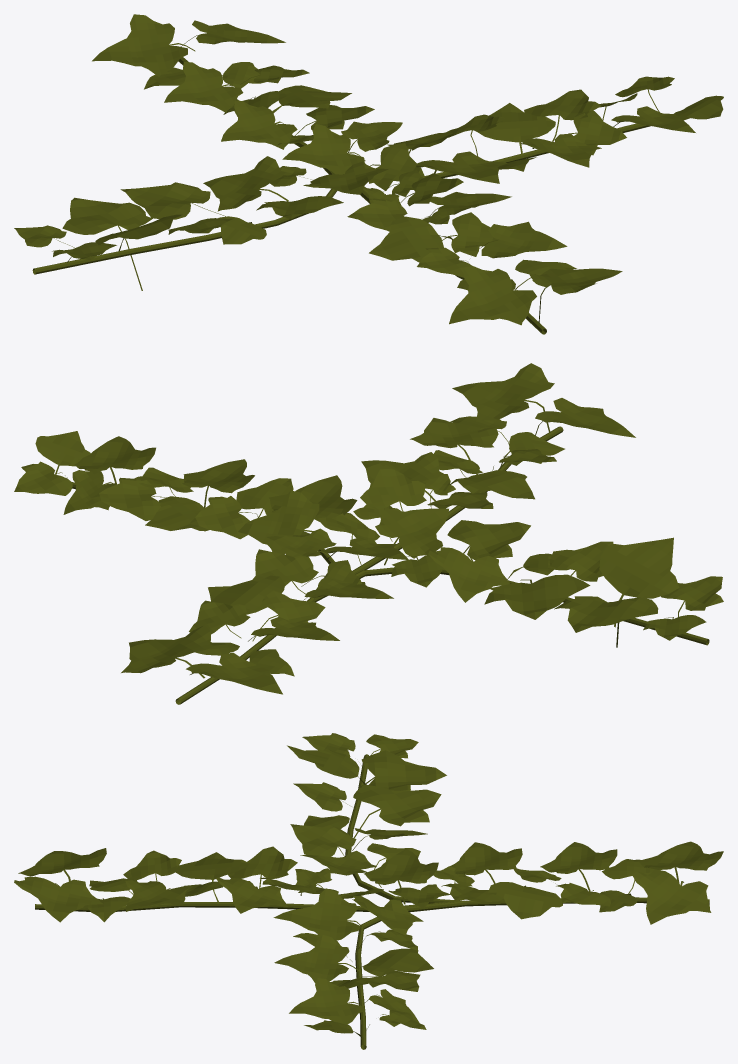
Rendered from CrossIvyRefined.fbx.
The picture shows the model from 3 angles, top to bottom: view 1: azimuth 30°, elevation 25°; view 2: azimuth 150°, elevation 25°; view 3: azimuth 270°, elevation 25°; orthographic projection. The views are drawn at different scales.
Parts seen in each view (by area): view 1: CrossIvyLeafs, CrossIvyStick; view 2: CrossIvyLeafs, CrossIvyStick; view 3: CrossIvyLeafs, CrossIvyStick.
Boxes of the visible parts, bbox=[...] form: CrossIvyLeafs: bbox=[14, 14, 723, 325]; CrossIvyStick: bbox=[32, 57, 650, 334]; CrossIvyLeafs: bbox=[14, 363, 723, 694]; CrossIvyStick: bbox=[72, 426, 709, 704]; CrossIvyLeafs: bbox=[14, 733, 723, 1037]; CrossIvyStick: bbox=[35, 754, 709, 1049].
Size of the model in its own units: 211 by 26.01 by 212.
